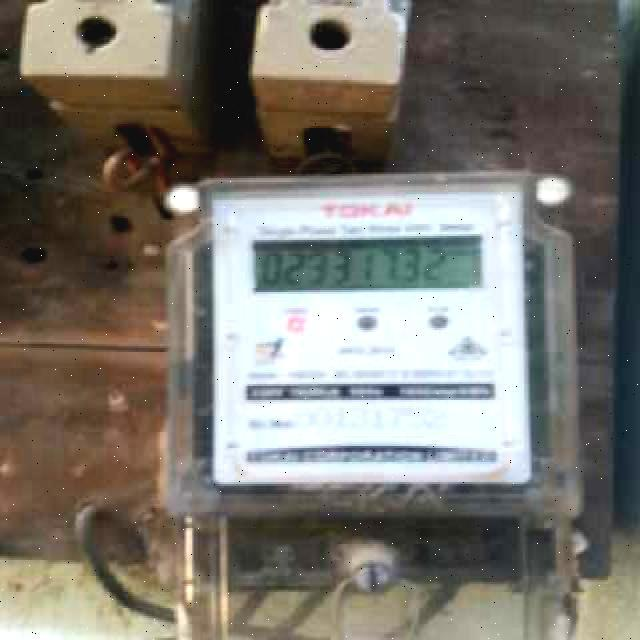LCD: (250, 238, 494, 293)
